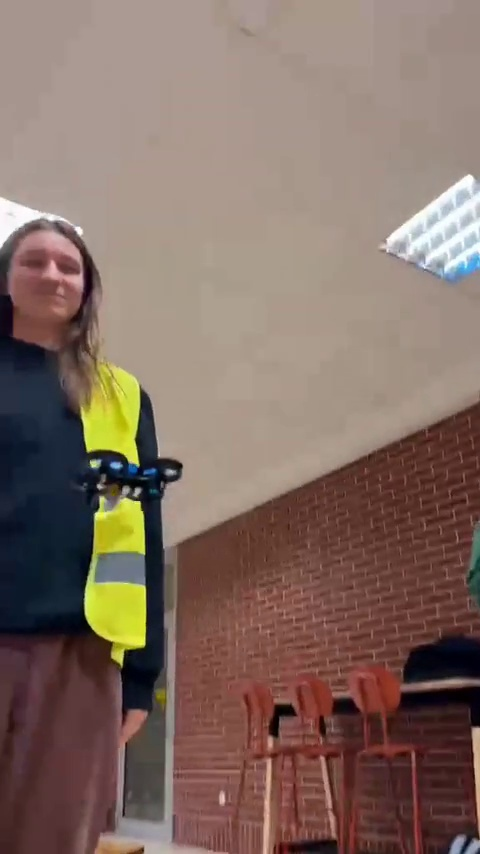drone: (65, 449, 183, 515)
vest: (6, 213, 171, 850)
